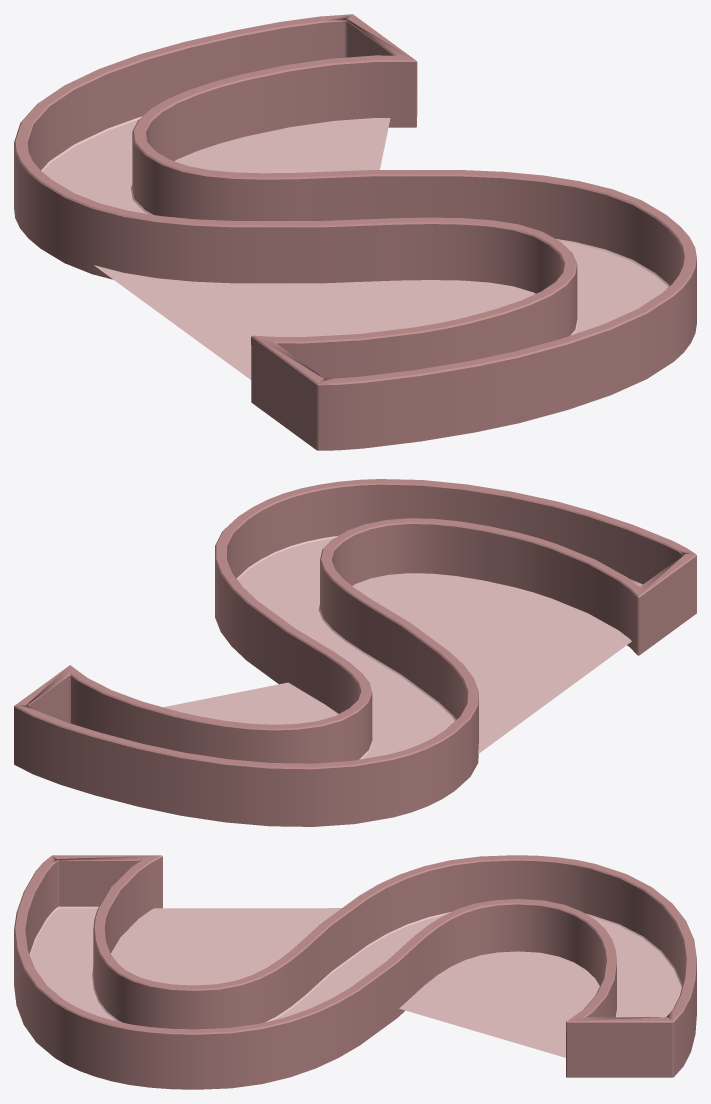
3 views of the same model, one above another, from view 1: azimuth 30°, elevation 25°; view 2: azimuth 150°, elevation 25°; view 3: azimuth 270°, elevation 25° (orthographic). The views are drawn at different scales.
Visible parts, largest first — view 1: Table_S; view 2: Table_S; view 3: Table_S.
Boxes of the visible parts, left/top/right/bottom form: Table_S: left=14, top=14, right=696, bottom=450; Table_S: left=14, top=479, right=696, bottom=826; Table_S: left=14, top=855, right=696, bottom=1089.
Size of the model in its own units: 5.85 by 0.8559 by 9.44.
